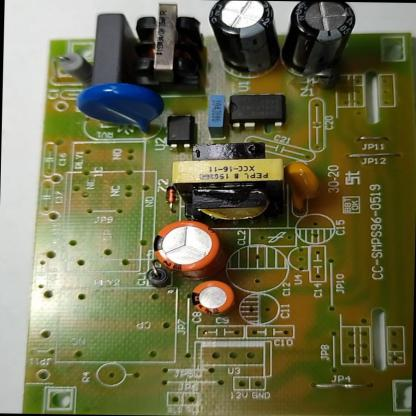Cap1: (150, 218, 226, 278)
Cap2: (188, 277, 235, 319)
Cap3: (199, 0, 287, 78)
Cap4: (284, 2, 356, 82)
MOSFET: (225, 90, 292, 132)
Mov: (72, 82, 168, 139)
Resistor: (56, 49, 94, 81)
Transformer: (167, 137, 291, 225), (122, 1, 202, 91)
